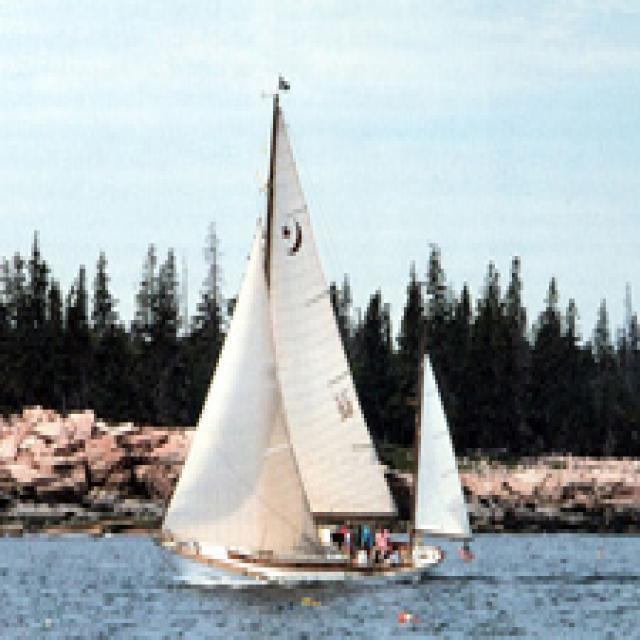Ship: (179, 70, 469, 598)
